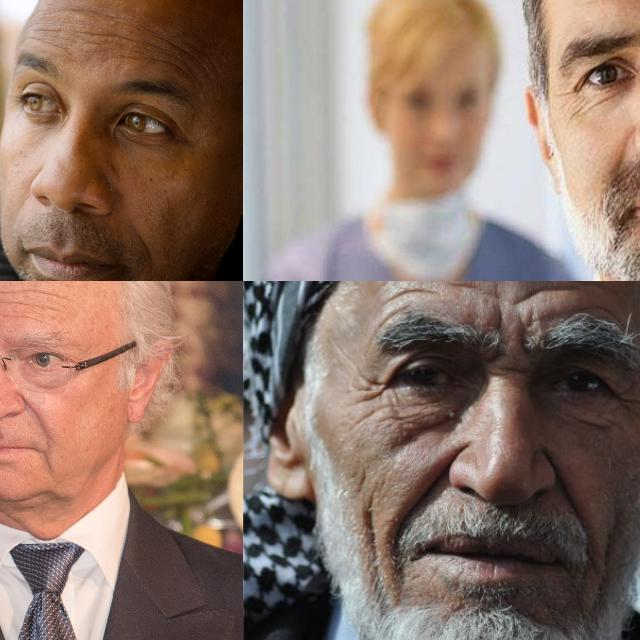crows_feet: (354, 367, 388, 409), (612, 376, 640, 419), (560, 76, 590, 112)
forehead: (8, 285, 56, 327), (83, 26, 145, 54), (510, 281, 571, 308), (27, 24, 68, 56), (385, 281, 439, 302), (171, 42, 197, 80)
frown_line: (489, 303, 508, 335)
gummy_smile: (544, 454, 590, 528), (392, 460, 446, 520), (25, 392, 53, 434), (130, 224, 154, 270)
masseter: (350, 502, 390, 570)
